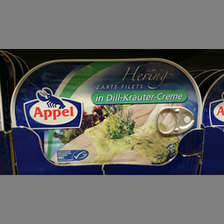fish: (10, 59, 204, 165)
